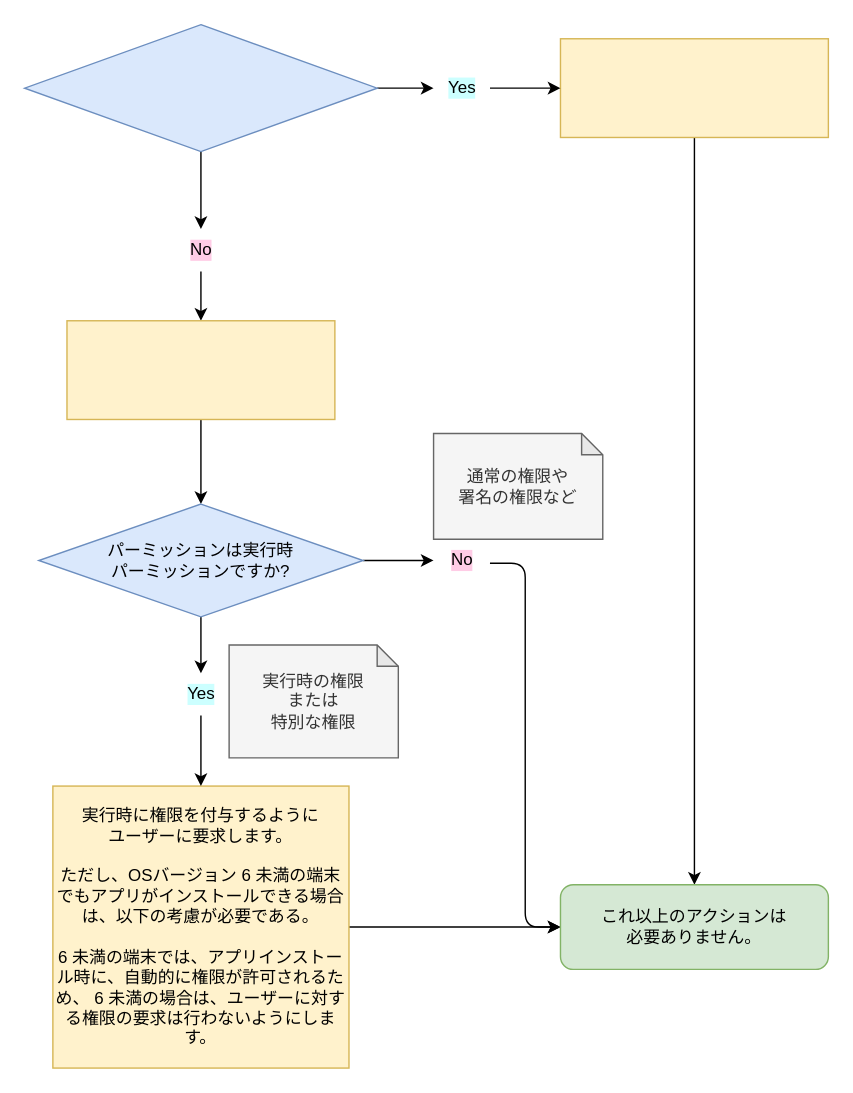
This 853x1093 diagram has some shape labels left out. The shapes that lost their labels are listed below. From the top down, each one's centre as x and y in pixels, then its label:
At (200,87): "アクセス許可を宣言せずに 機能を提供できますか?".
At (693,87): "パーミッションを使用せずにユースケースをフルフィルします。".
At (200,369): "アプリのマニフェスト ファイルで権限を宣言します。".
